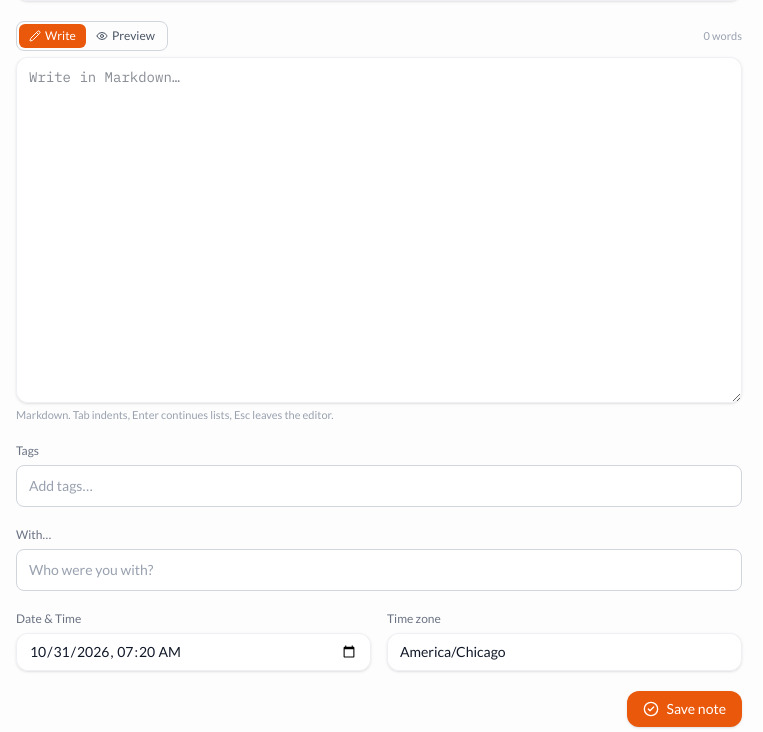
Test: NoteCheckIn › refuses an invalid zone or an empty note
The width and height of the screenshot is (763, 732).
(page scrolled)
Click the button "Save note": (684, 709) [626, 691, 742, 727]
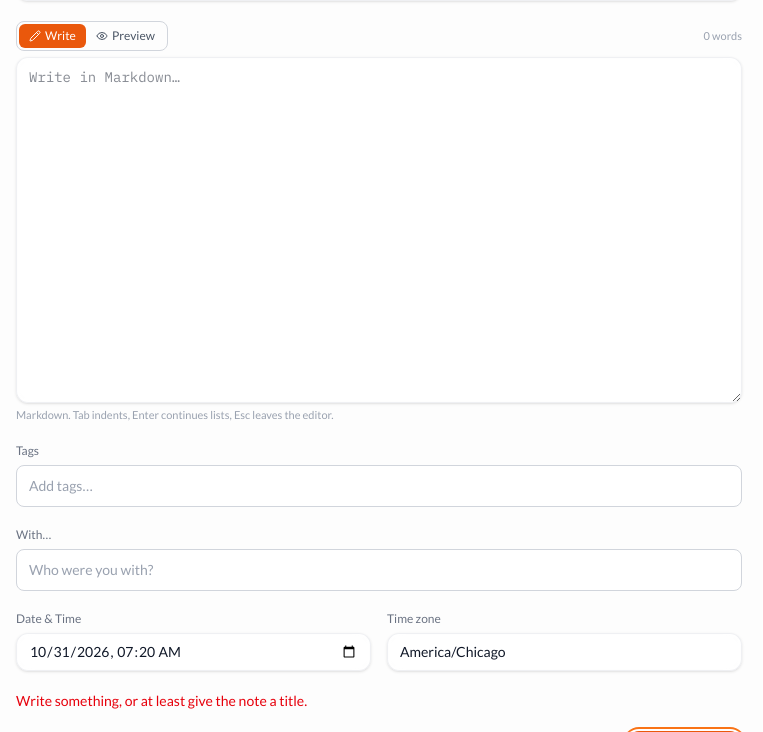
Result: the text "Write something, or at least give the note a title." is shown at [16, 692, 307, 709]
Replace the text in the field labelled "Time zone" with "Mars/Base": (564, 652) [387, 633, 742, 671]
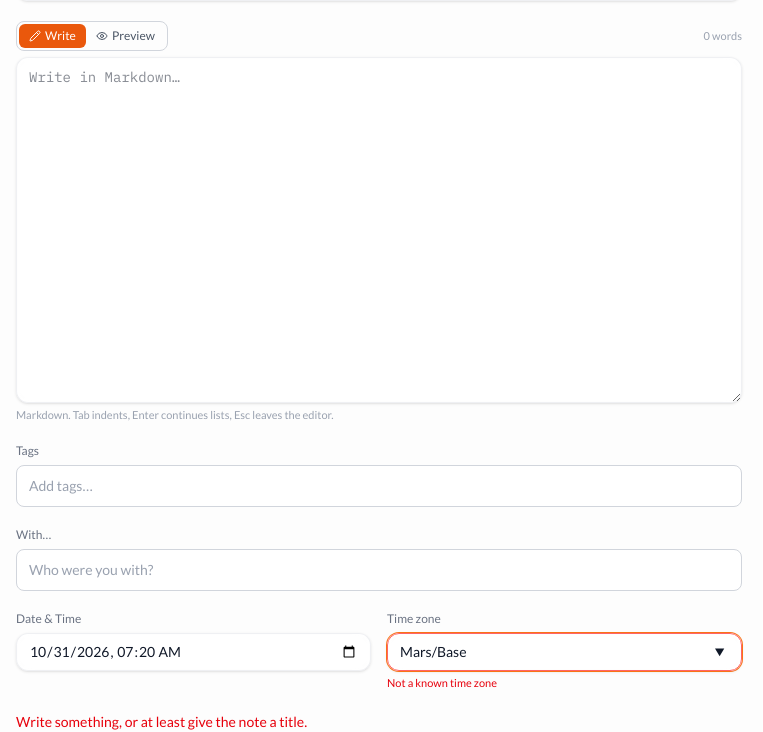
In the text box named "Note": (379, 230) [16, 57, 742, 403], type "x"
(page scrolled)
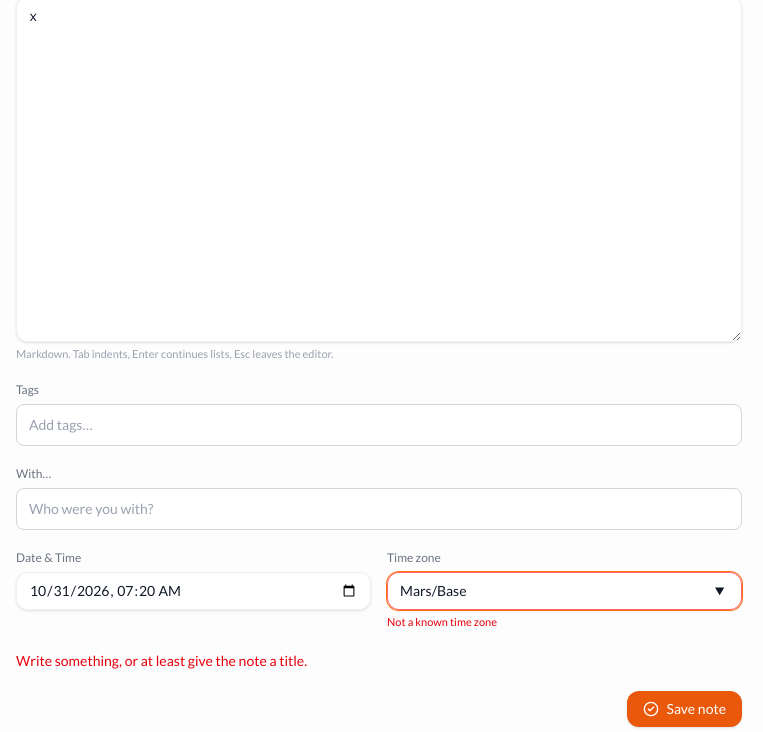
Click the button "Save note": (684, 709) [626, 691, 742, 727]
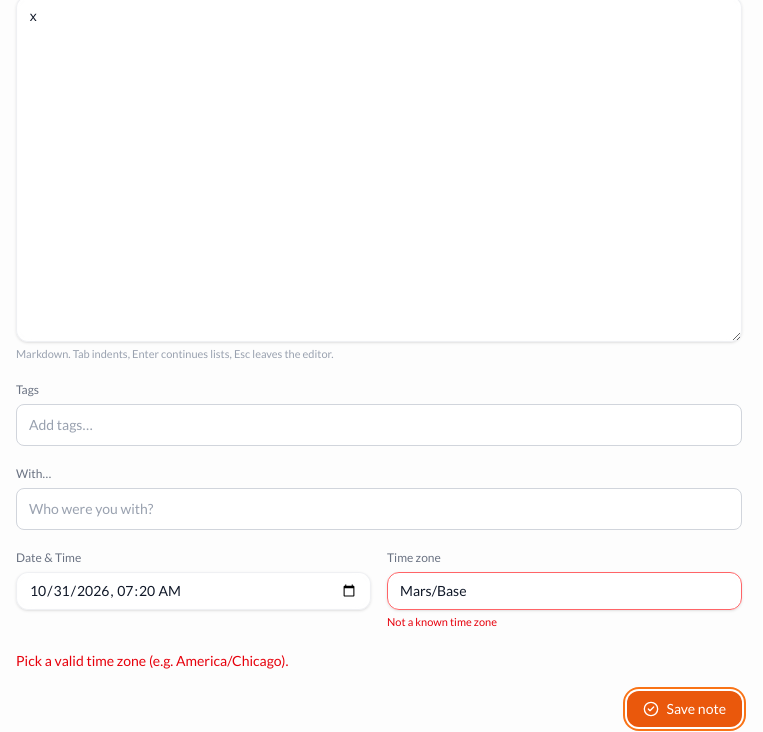
Result: the text "Pick a valid time zone (e.g. America/Chicago)." is shown at [16, 652, 288, 669]
